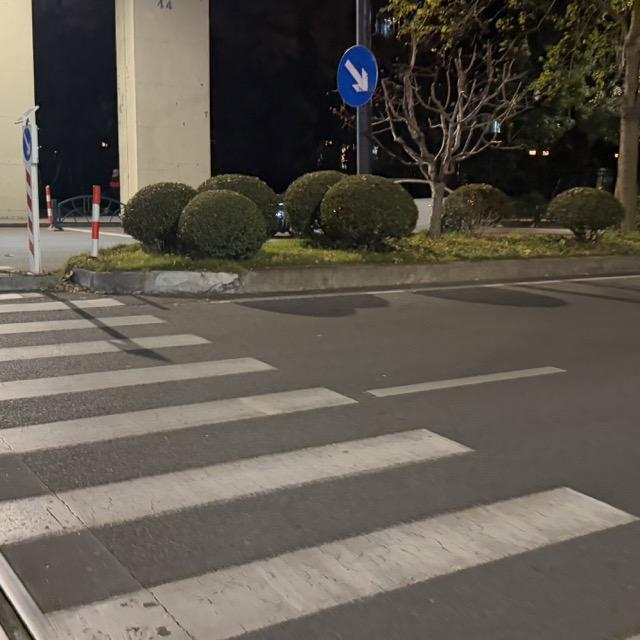curb: (76, 256, 639, 294)
